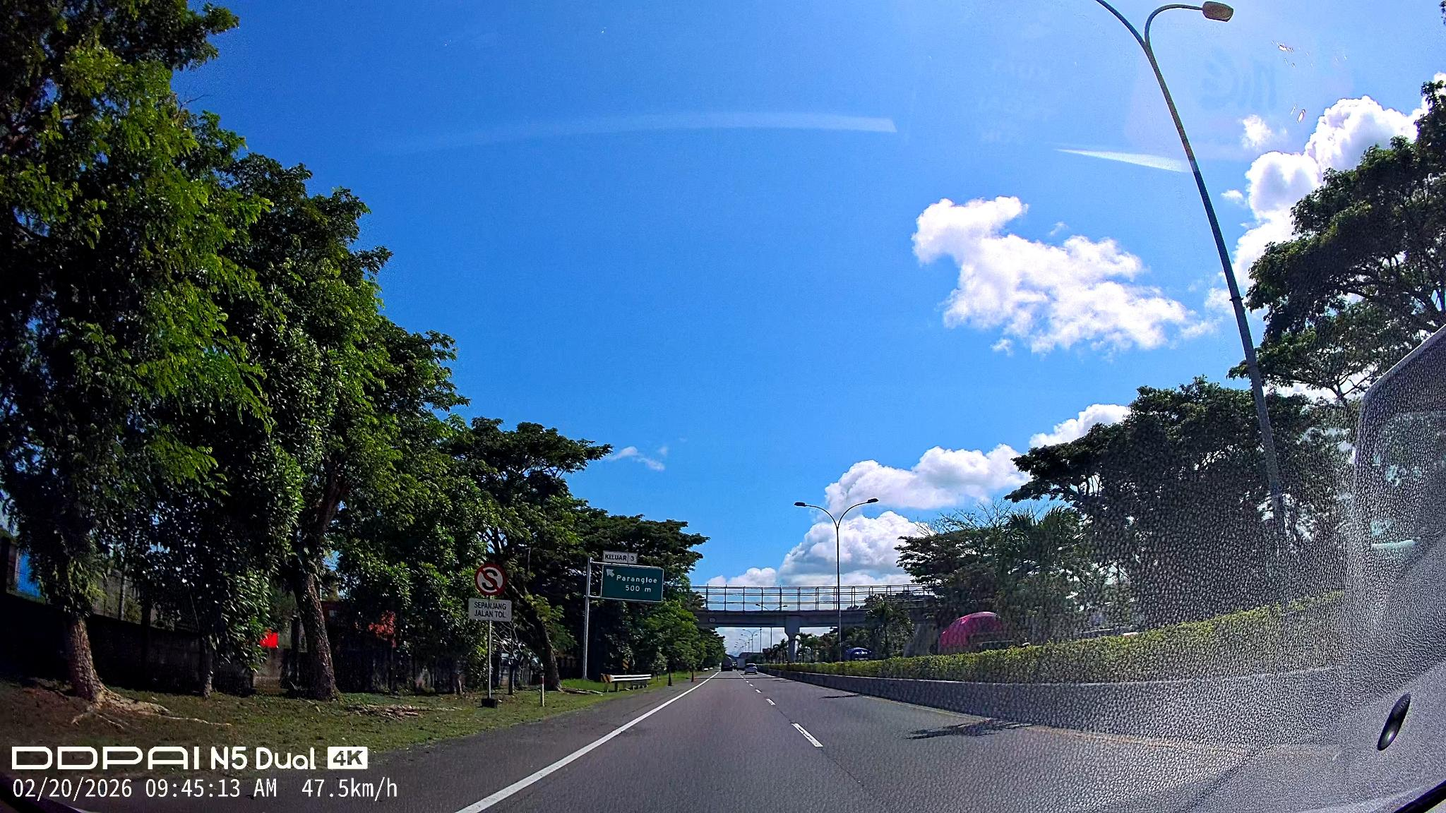rambu_teks: (600, 564, 664, 603)
